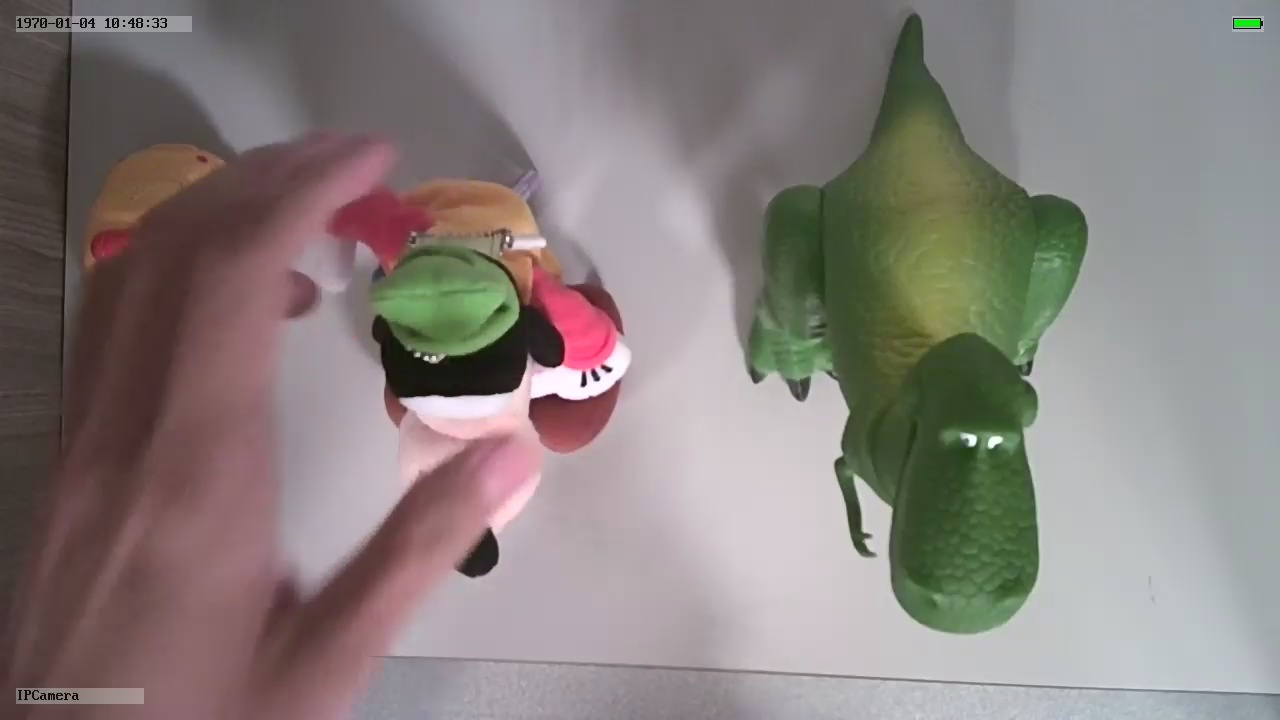rex: (749, 102, 1091, 637)
